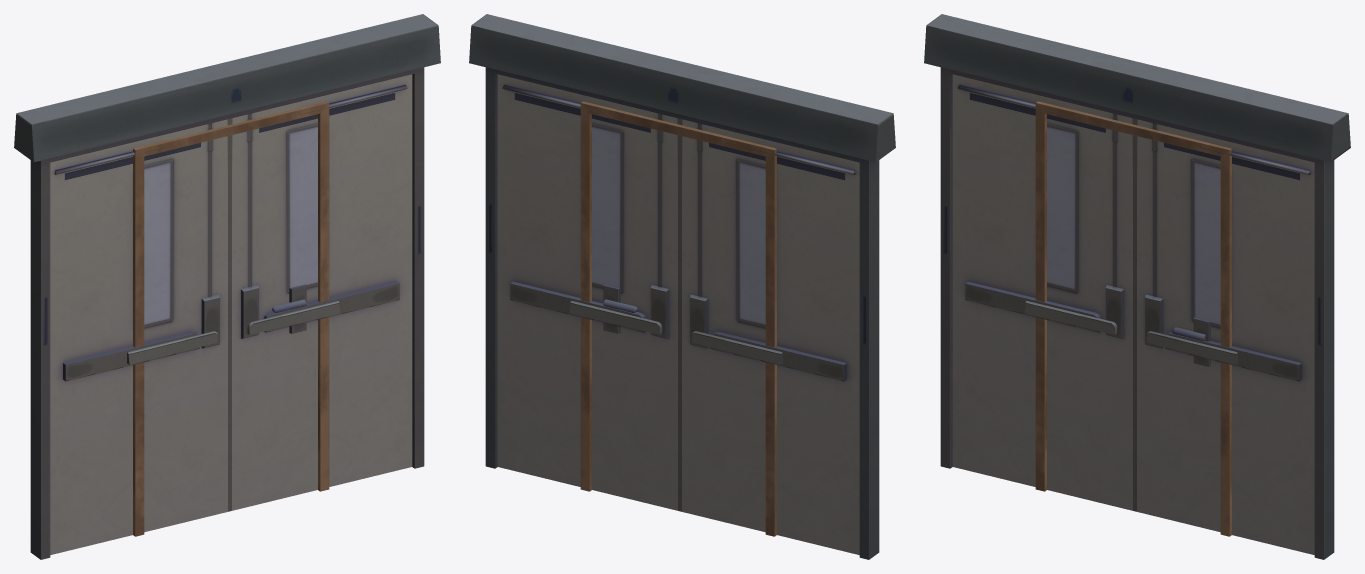
The model's file is puertas.fbx.
The picture shows the model from 3 angles, left to right: view 1: azimuth 30°, elevation 25°; view 2: azimuth 150°, elevation 25°; view 3: azimuth 330°, elevation 25°; orthographic projection.
Parts seen in each view (by area): view 1: puerta_iz, puerta_dere, puertas_MARCO, MARCO1, PUERTA1; view 2: puerta_iz, puerta_dere, puertas_MARCO, MARCO1, PUERTA1; view 3: puerta_dere, puerta_iz, puertas_MARCO, MARCO1, PUERTA1.
Boxes of the visible parts, bbox=[...] form: puerta_iz: bbox=[230, 74, 412, 511]; puerta_dere: bbox=[50, 119, 229, 554]; puertas_MARCO: bbox=[14, 14, 440, 559]; MARCO1: bbox=[133, 101, 329, 536]; PUERTA1: bbox=[272, 284, 306, 333]; puerta_iz: bbox=[497, 74, 679, 511]; puerta_dere: bbox=[680, 119, 859, 554]; puertas_MARCO: bbox=[469, 14, 895, 559]; MARCO1: bbox=[580, 101, 776, 536]; PUERTA1: bbox=[603, 284, 637, 333]; puerta_dere: bbox=[952, 74, 1134, 511]; puerta_iz: bbox=[1135, 119, 1314, 554]; puertas_MARCO: bbox=[924, 14, 1350, 559]; MARCO1: bbox=[1035, 101, 1231, 536]; PUERTA1: bbox=[1172, 317, 1210, 366].
Size of the model in its own units: 449 by 464 by 38.21.
1 material, 1 textured.
